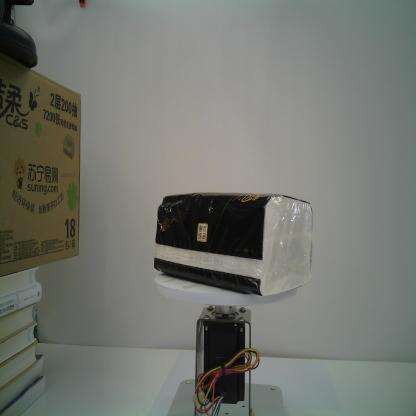Tissue: (152, 190, 315, 298)
